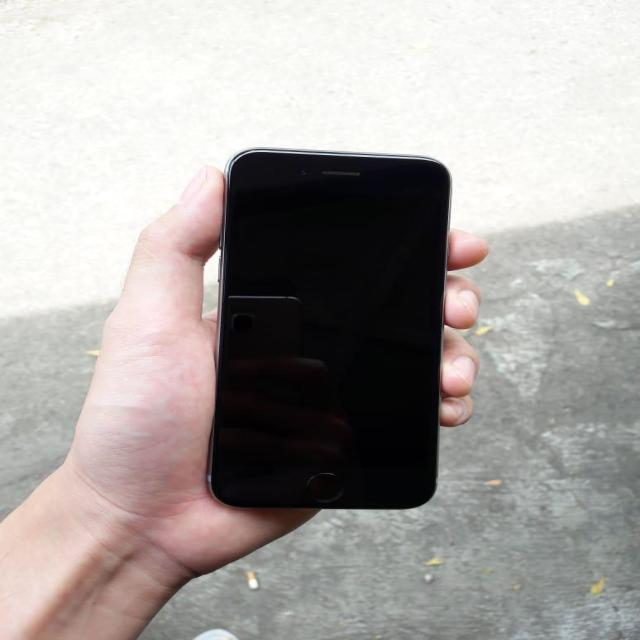mobile phone: (206, 146, 452, 511)
